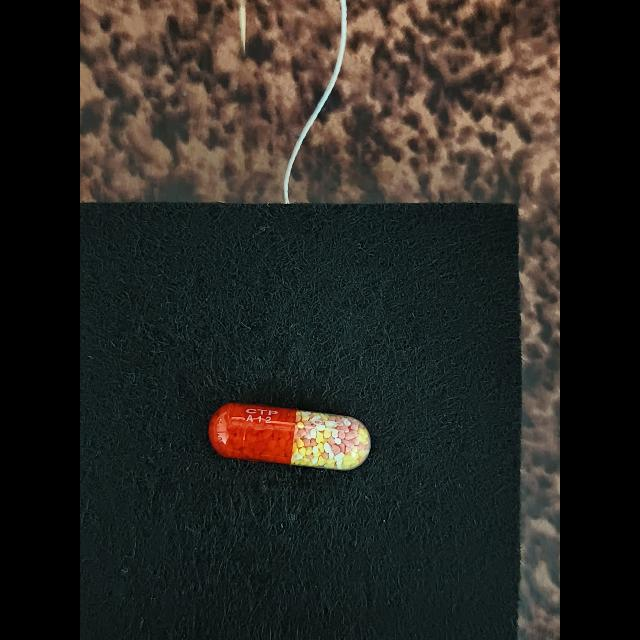Intact Capsule: (209, 403, 371, 470)
